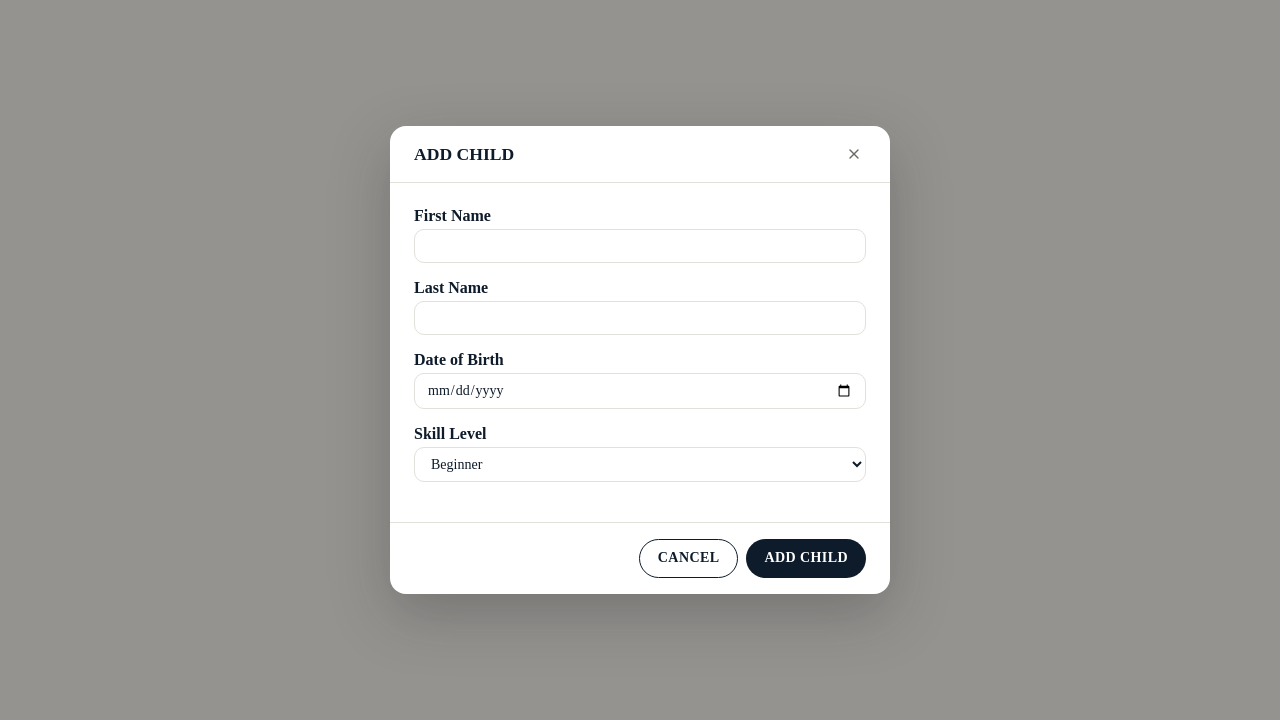
AddChildModal › shows a client-side validation error and does not submit when date of birth is blank
Type "New" into the field labelled "First Name".
click(640, 246); type("New")  # box top-left (414, 229), bottom-right (866, 263)
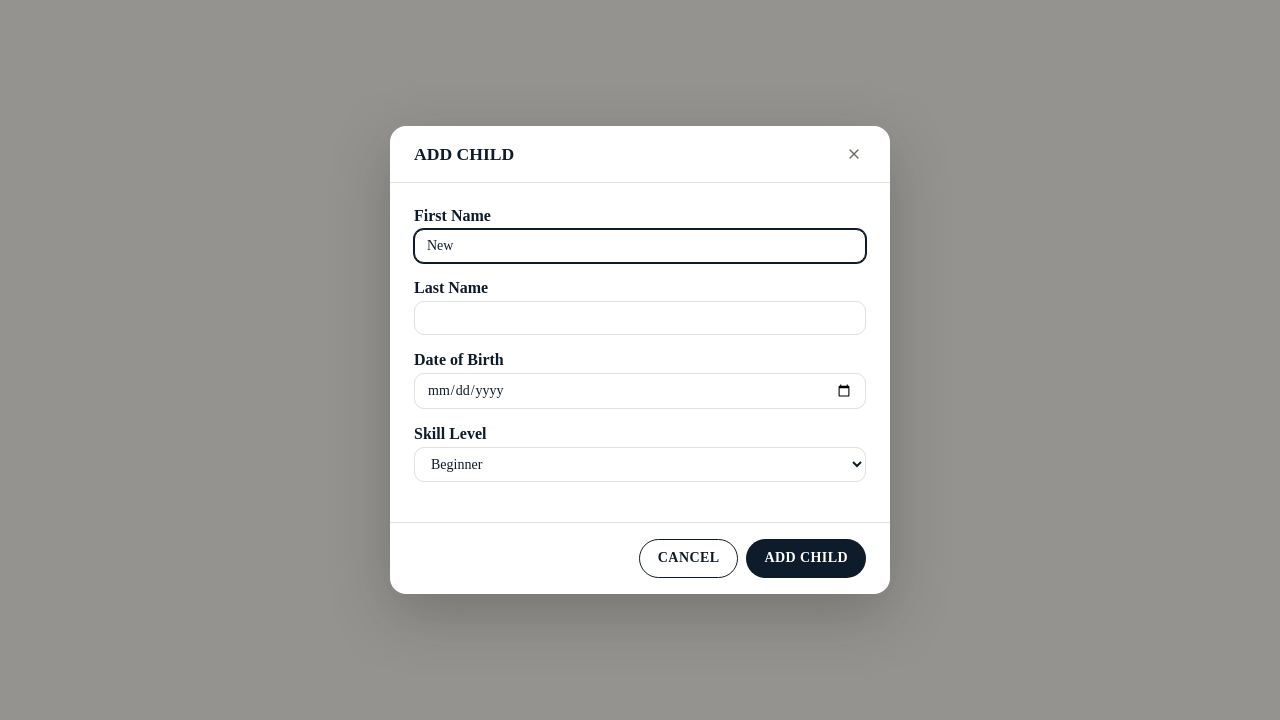
Type "Kid" into the field labelled "Last Name".
click(640, 318); type("Kid")  # box top-left (414, 301), bottom-right (866, 335)
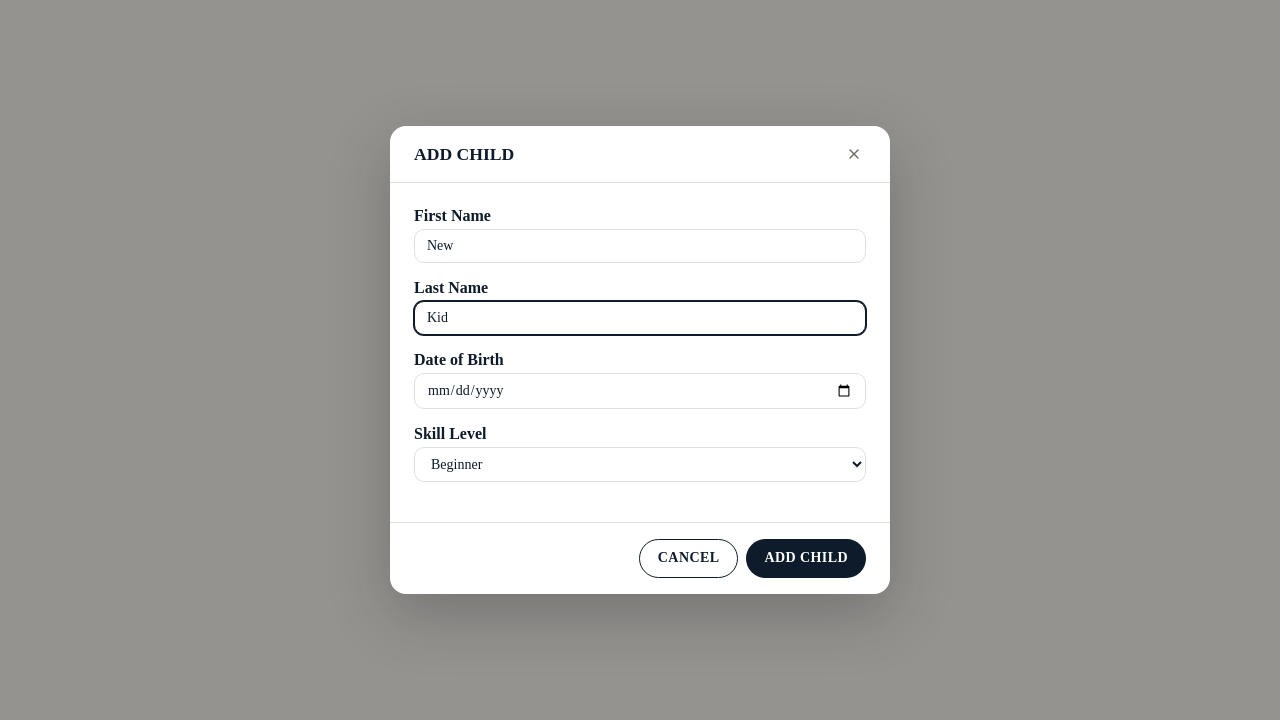
Click the button "Add Child".
click(806, 558)  # box top-left (746, 539), bottom-right (866, 578)
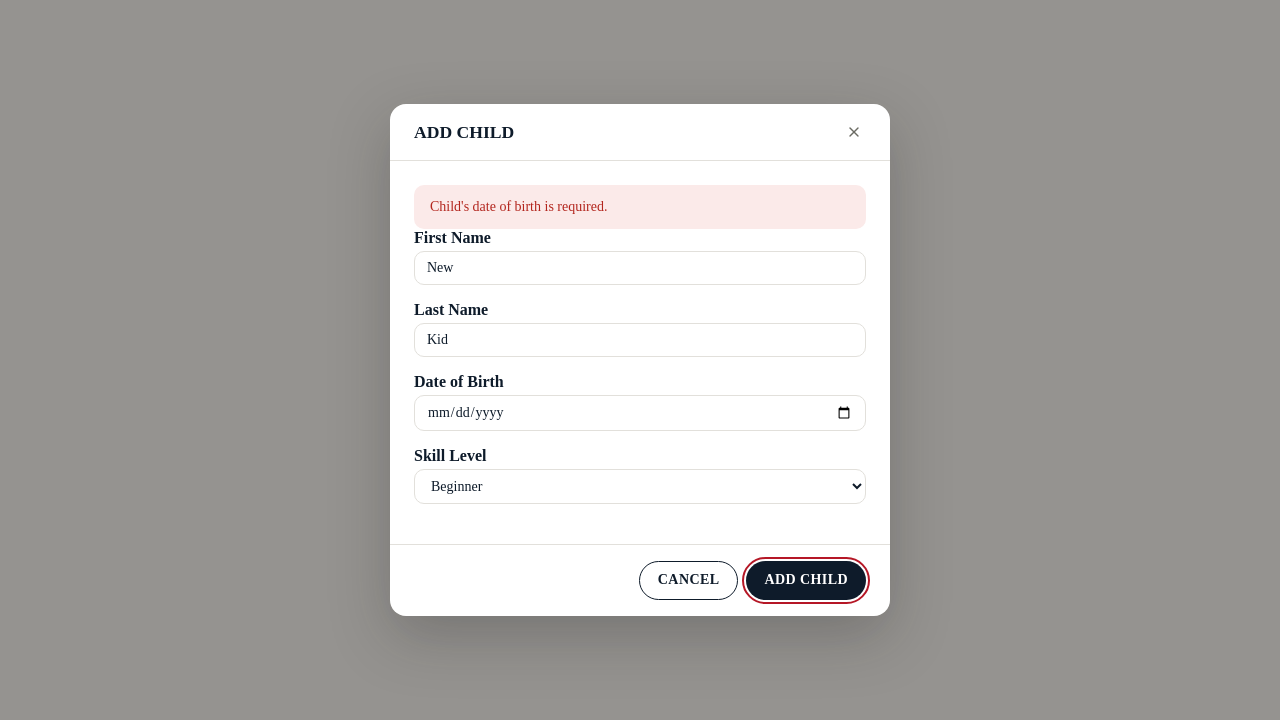
Result: the text "Child's date of birth is required." is shown at top-left (414, 185), bottom-right (866, 229)
